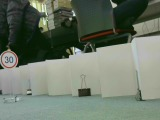speed_30: (1, 50, 19, 70)
